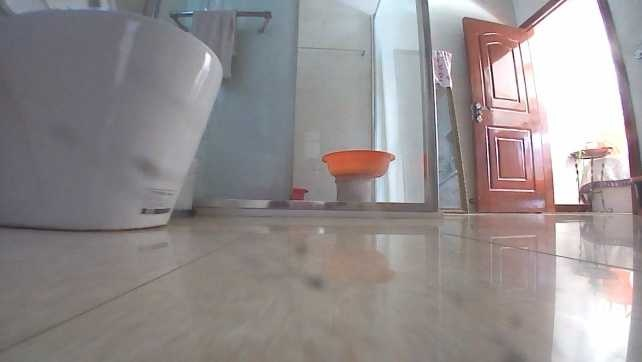door_anno: (459, 14, 560, 211)
toilet: (2, 0, 224, 235)
